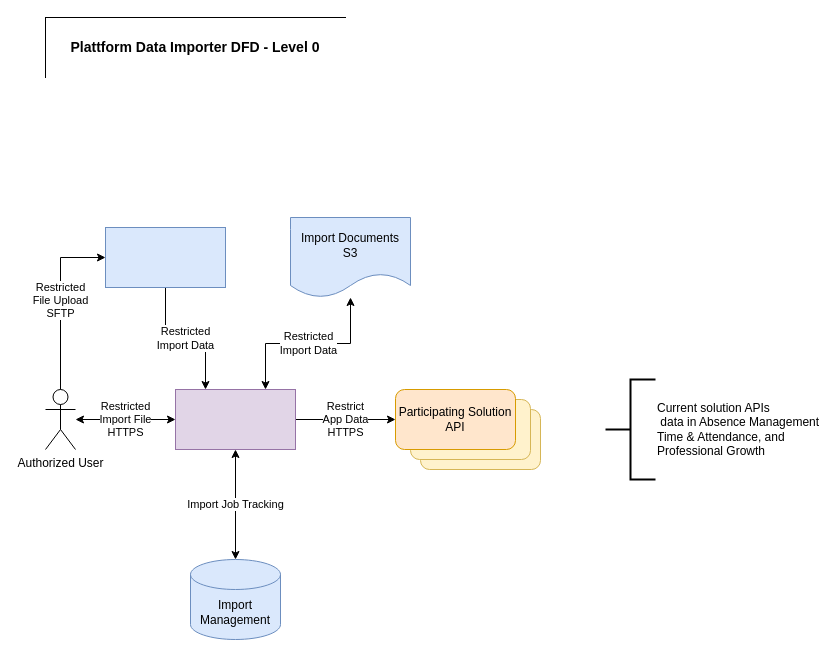
Some shapes in this 836 by 657 pixel diagram are drawn without their labels. Here are the shapes that lost their labels. From the top down, the box of each, then its label:
(104, 226, 226, 288): SFTP
(174, 388, 296, 450): Platform Data Import Lambdas
